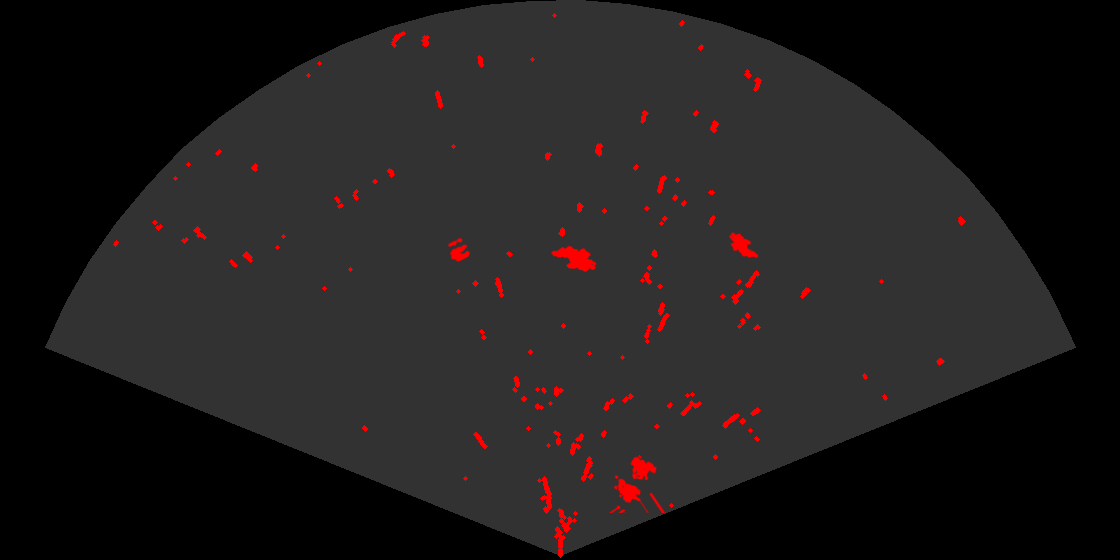AUV: (550, 244, 598, 273), (727, 231, 760, 260)
ball: (446, 236, 472, 263)
cage: (607, 455, 667, 513)
